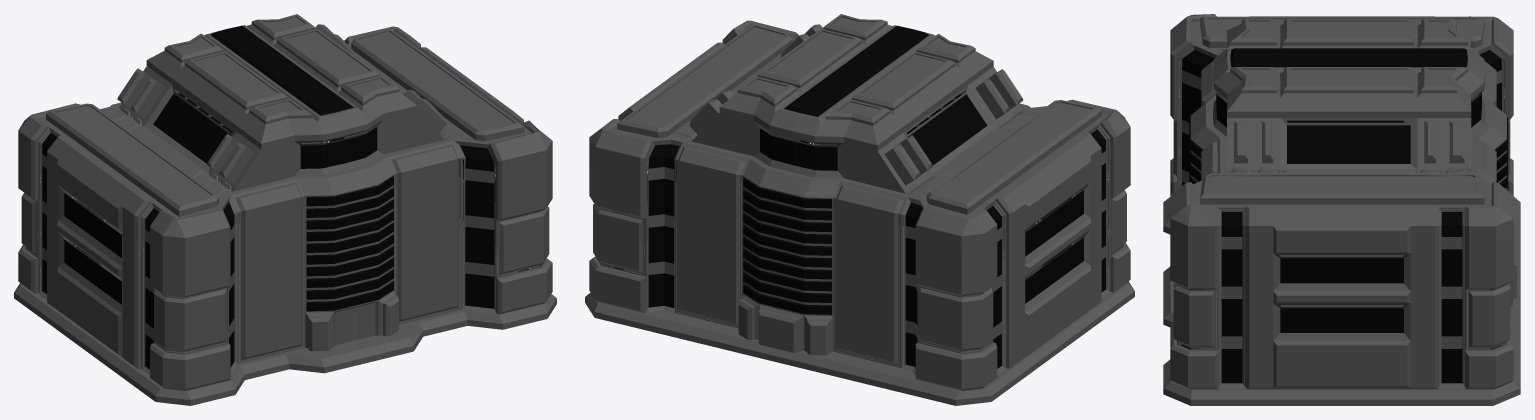
Rendered from concerthall.dae.
The picture shows the model from 3 angles, left to right: view 1: azimuth 30°, elevation 25°; view 2: azimuth 150°, elevation 25°; view 3: azimuth 270°, elevation 25°; orthographic projection. The views are drawn at different scales.
Visible parts, largest first — view 1: concerthall; view 2: concerthall; view 3: concerthall.
Boxes of the visible parts, x1,y1,x2,y2 form: concerthall: (14,14,556,405); concerthall: (585,14,1134,405); concerthall: (1163,14,1520,405).
Bounding box in the file's own units: 67.39 × 48.67 × 37.44.
